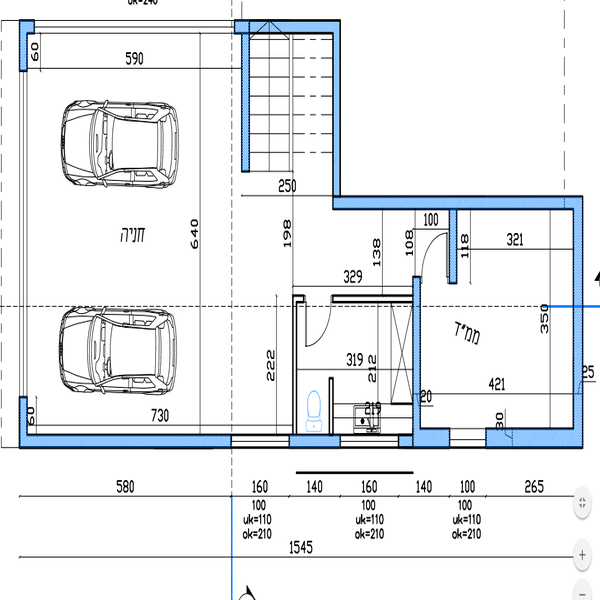door: (297, 294, 338, 355), (411, 230, 449, 280)
room: (445, 188, 586, 449), (284, 279, 432, 446), (236, 3, 347, 213)
wall: (23, 429, 231, 454), (233, 34, 267, 183), (570, 194, 588, 454), (334, 192, 585, 209), (479, 421, 587, 454), (330, 36, 347, 211), (409, 276, 425, 423), (235, 18, 344, 37), (284, 428, 359, 455), (288, 290, 302, 433), (334, 284, 418, 307), (446, 210, 462, 283), (13, 14, 31, 75), (415, 423, 454, 451)
window: (35, 20, 235, 36), (337, 425, 401, 455), (231, 427, 290, 454), (455, 430, 484, 455)
